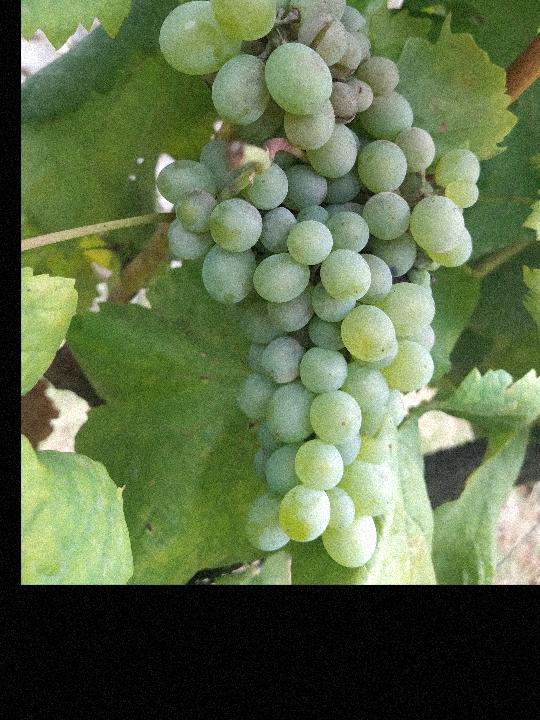grape: (153, 0, 486, 571)
